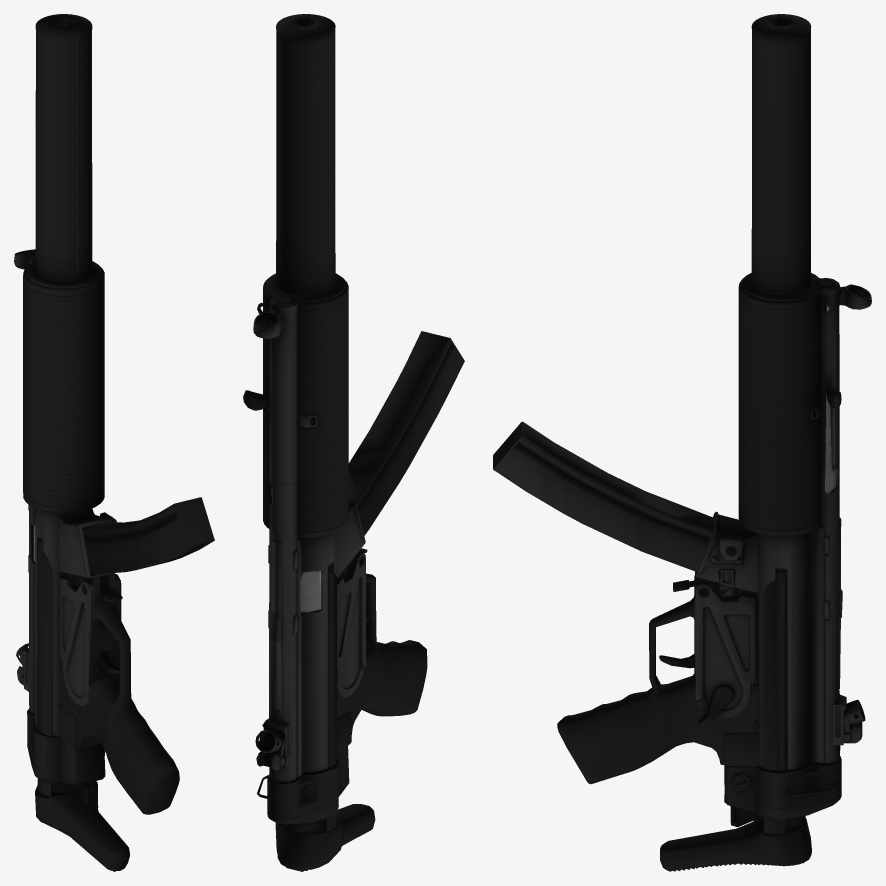
The picture shows the model from 3 angles, left to right: view 1: azimuth 30°, elevation 25°; view 2: azimuth 150°, elevation 25°; view 3: azimuth 270°, elevation 25°; orthographic projection. The views are drawn at different scales.
Visible parts, largest first — view 1: W_MP5SD_Mesh; view 2: W_MP5SD_Mesh; view 3: W_MP5SD_Mesh.
Boxes of the visible parts, x1=… form: W_MP5SD_Mesh: x1=14, y1=14, x2=214, y2=871; W_MP5SD_Mesh: x1=243, y1=14, x2=464, y2=871; W_MP5SD_Mesh: x1=493, y1=14, x2=871, y2=871.
Size of the model in its own units: 0.0634 by 0.6912 by 0.2803.
